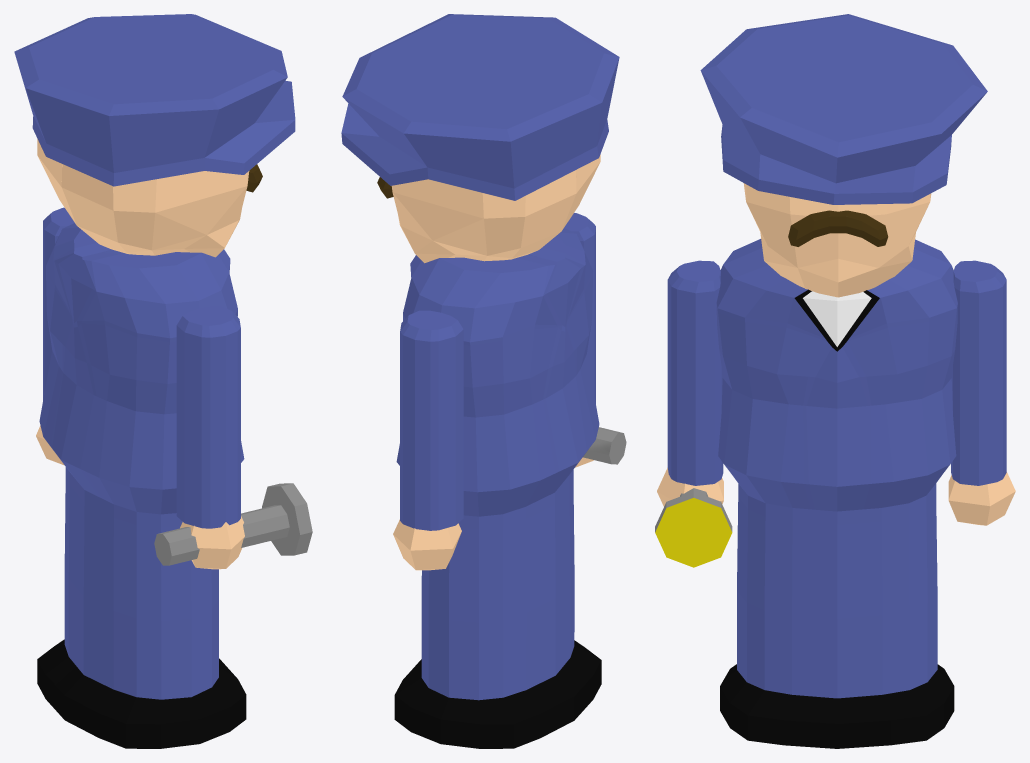
File: guardedit.gltf
3 renders of one model, left to right at view 1: azimuth 30°, elevation 25°; view 2: azimuth 150°, elevation 25°; view 3: azimuth 270°, elevation 25°, orthographic.
Parts seen in each view (by area): view 1: Cube, Cylinder, Cube.003, Cube.002, Cylinder.001, Sphere.001, Cube.004; view 2: Cube, Cylinder, Cube.004, Cube.002, Sphere, Cube.003, Cylinder.001; view 3: Cube, Cylinder, Cube.003, Cube.004, Cube.002, Cylinder.001, Sphere, Cube.001, Sphere.001.
Part boxes in pixels (bbox=[...]): Cube: bbox=[37, 223, 246, 748]; Cylinder: bbox=[14, 14, 295, 186]; Cube.003: bbox=[176, 306, 240, 528]; Cube.002: bbox=[37, 139, 249, 257]; Cylinder.001: bbox=[154, 483, 312, 565]; Sphere.001: bbox=[180, 516, 244, 569]; Cube.004: bbox=[43, 207, 74, 400]; Cube: bbox=[394, 228, 601, 748]; Cylinder: bbox=[341, 14, 619, 200]; Cube.004: bbox=[400, 310, 463, 530]; Cube.002: bbox=[391, 154, 600, 263]; Sphere: bbox=[393, 519, 461, 570]; Cube.003: bbox=[564, 213, 595, 403]; Cylinder.001: bbox=[583, 427, 626, 464]; Cube: bbox=[716, 239, 957, 748]; Cylinder: bbox=[700, 14, 987, 204]; Cube.003: bbox=[667, 260, 723, 485]; Cube.004: bbox=[951, 260, 1006, 485]; Cube.002: bbox=[743, 183, 931, 297]; Cylinder.001: bbox=[655, 488, 732, 567]; Sphere: bbox=[948, 472, 1015, 525]; Cube.001: bbox=[788, 210, 888, 246]; Sphere.001: bbox=[657, 468, 723, 506].
Bounding box in the file's own units: 2.74 × 6.5 × 3.27.
1 material, 1 textured.
